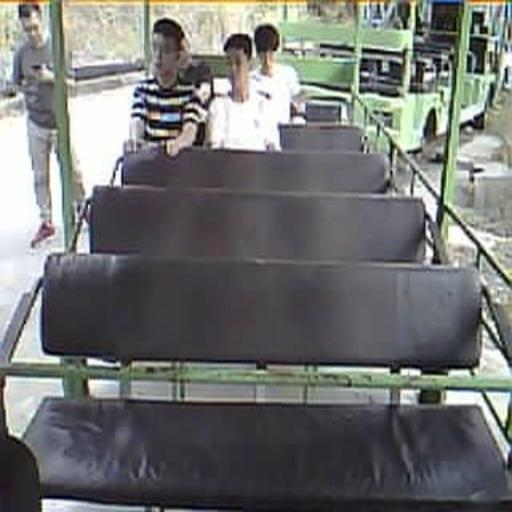persona: (128, 17, 206, 157), (204, 33, 282, 152), (249, 22, 308, 122), (177, 24, 214, 111)
